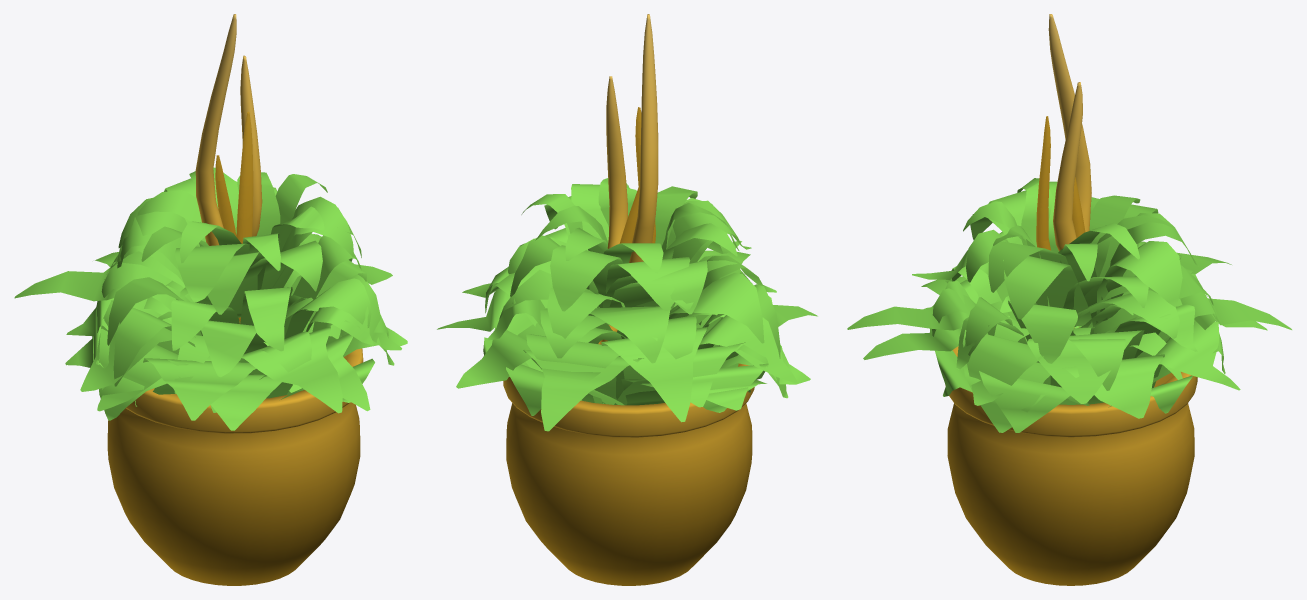
File: Topfpflanze3.glb
3 renders of one model, left to right at view 1: azimuth 30°, elevation 25°; view 2: azimuth 150°, elevation 25°; view 3: azimuth 270°, elevation 25°, orthographic. The views are drawn at different scales.
Parts seen in each view (by area): view 1: Pflanze.002, Blumentopf.002, Blume, Blume.001; view 2: Pflanze.002, Blumentopf.002, Blume, Blume.001; view 3: Pflanze.002, Blumentopf.002, Blume, Blume.001.
Part boxes in pixels (left/top/right/bottom): Pflanze.002: left=14, top=167, right=407, bottom=430; Blumentopf.002: left=107, top=348, right=363, bottom=585; Blume: left=195, top=14, right=262, bottom=245; Blume.001: left=215, top=111, right=253, bottom=323; Pflanze.002: left=437, top=178, right=817, bottom=431; Blumentopf.002: left=503, top=363, right=754, bottom=585; Blume: left=598, top=14, right=658, bottom=344; Blume.001: left=619, top=107, right=655, bottom=243; Pflanze.002: left=847, top=178, right=1291, bottom=432; Blumentopf.002: left=945, top=346, right=1197, bottom=585; Blume: left=1048, top=14, right=1091, bottom=251; Blume.001: left=1036, top=116, right=1085, bottom=328.
Bounding box in the file's own units: 0.4292 × 0.6931 × 0.5187.
2 materials, 2 textured.
